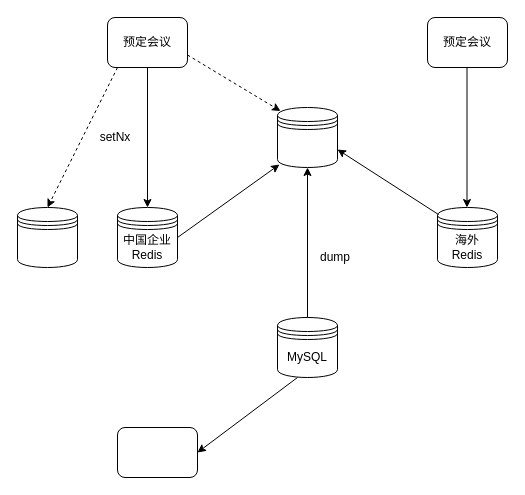
Some shapes in this 525 by 495 pixel diagram are drawn without their labels. Each missing label, with the centre of its shape:
"中国个人 Redis" goes at point 47,237.
"历史会议" goes at point 157,452.
"去重" goes at point 307,137.
